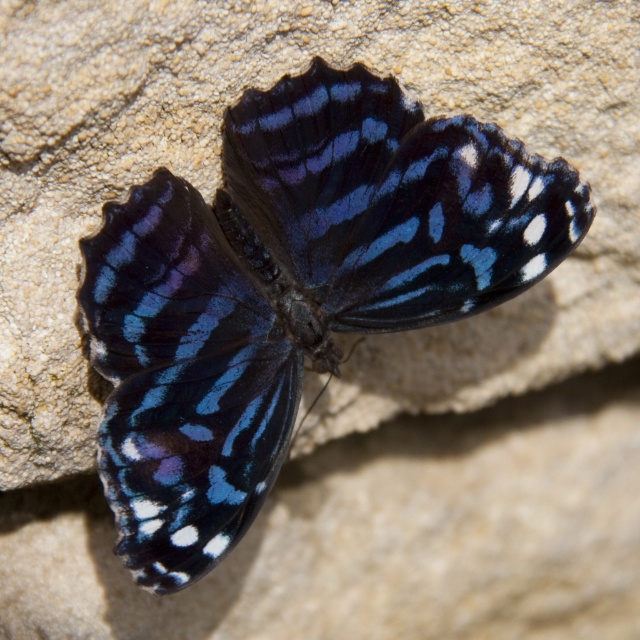Butterfly: (66, 72, 602, 624)
